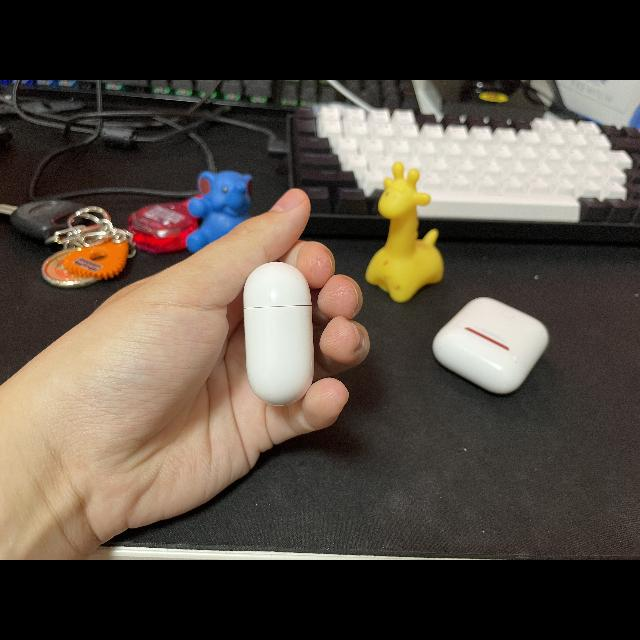airpod2: (424, 286, 560, 402)
airpod3: (236, 253, 320, 409)
